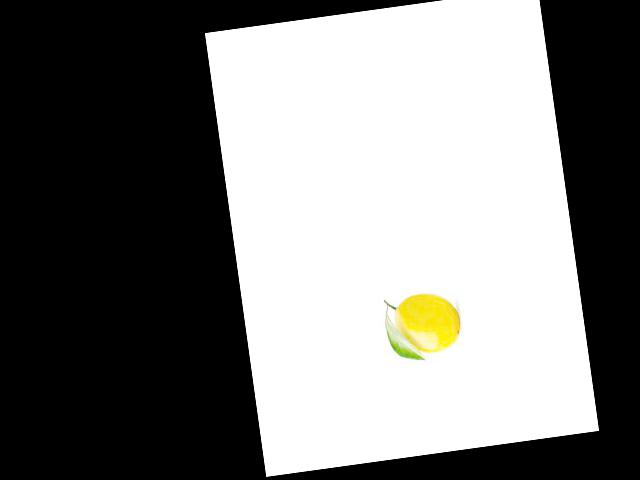lemon: (386, 284, 469, 361)
